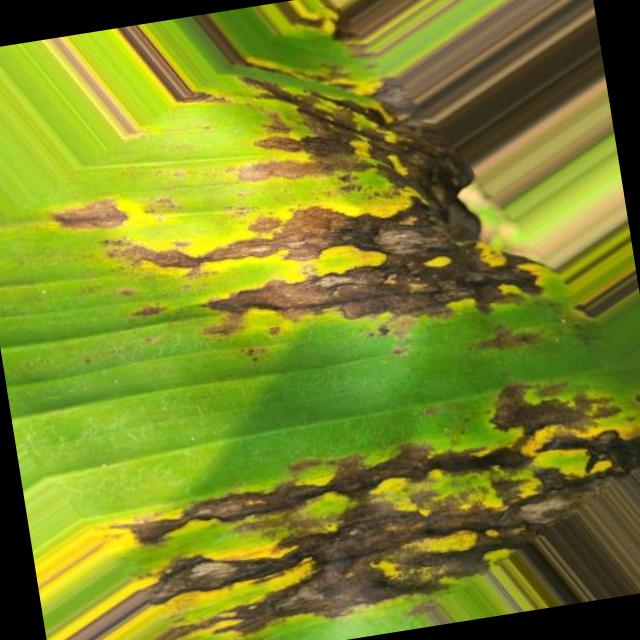Banana_Black_Sigatoka: (52, 31, 562, 378), (84, 378, 640, 640)
